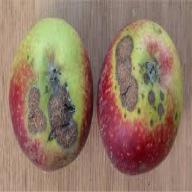apple: (95, 19, 184, 177), (9, 19, 93, 172)
